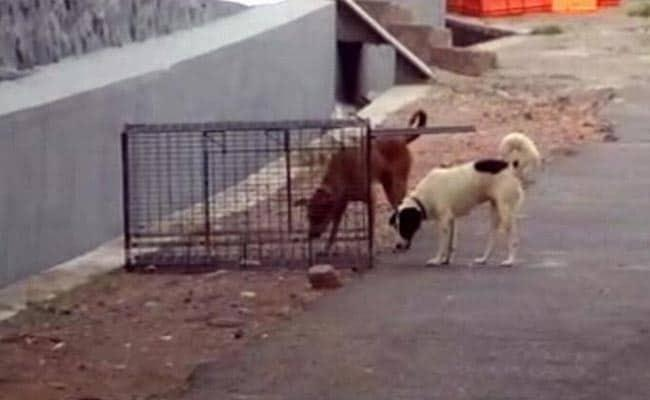normal_dogs: (390, 133, 544, 281), (294, 106, 430, 262)
